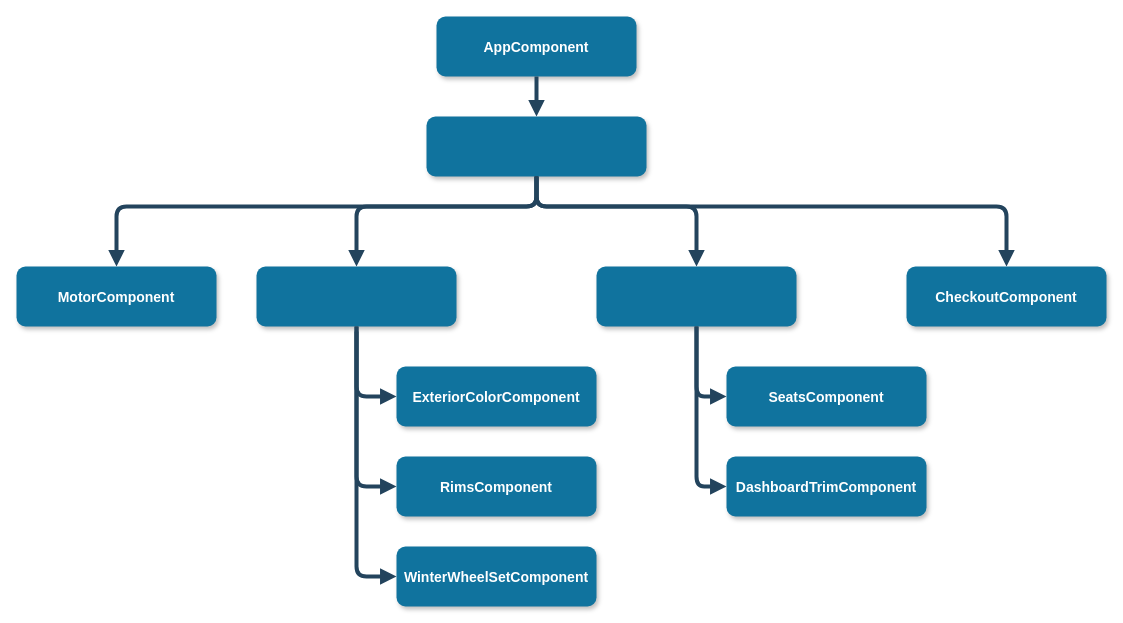
This 1123x623 diagram has some shape labels left out. Here are the shapes that lost their labels. From the top down, the centre of each, then its label:
At (x=537, y=147): "TeslaConfiguratorComponent".
At (x=357, y=297): "ExteriorComponent".
At (x=697, y=297): "InteriorComponent".
